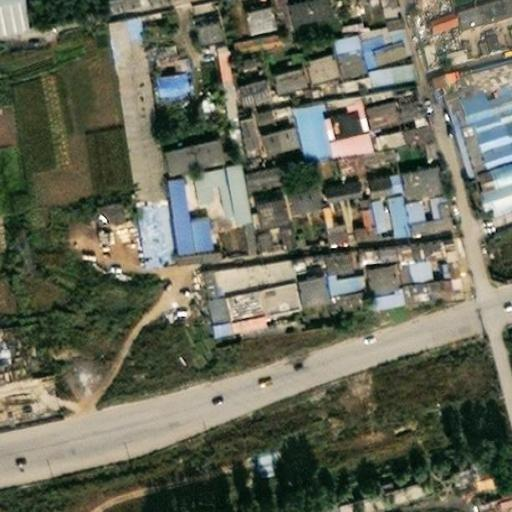building: (94, 1, 158, 188), (155, 162, 205, 240), (196, 244, 290, 279), (125, 187, 170, 254), (316, 86, 361, 143), (283, 85, 323, 143), (180, 149, 225, 199), (351, 9, 399, 54), (157, 121, 216, 155), (207, 29, 233, 105), (320, 8, 358, 59), (217, 267, 258, 314), (460, 78, 512, 115), (462, 53, 512, 89), (470, 161, 512, 201), (216, 146, 243, 208), (467, 102, 512, 138), (391, 149, 436, 181), (358, 46, 406, 76), (253, 262, 294, 297), (456, 0, 512, 25), (226, 99, 256, 145), (384, 475, 425, 506), (251, 110, 291, 141), (246, 178, 283, 210), (472, 142, 512, 171), (389, 225, 437, 248), (198, 277, 223, 320), (144, 53, 181, 82), (295, 34, 329, 65), (473, 126, 512, 152), (377, 178, 400, 222), (264, 48, 300, 76), (359, 85, 394, 113), (227, 60, 263, 87), (290, 258, 322, 288), (313, 166, 354, 189), (478, 23, 510, 52), (359, 243, 394, 269), (393, 103, 423, 133), (343, 187, 366, 226), (224, 17, 271, 36), (251, 444, 278, 477), (312, 193, 337, 228), (326, 58, 362, 82), (278, 172, 315, 195), (169, 232, 215, 250), (360, 180, 382, 217), (426, 6, 460, 29), (316, 235, 350, 258), (319, 257, 358, 277), (366, 266, 396, 292), (391, 244, 425, 266), (475, 492, 512, 512), (184, 0, 213, 24), (0, 101, 15, 146), (85, 188, 115, 210), (473, 463, 499, 488), (353, 230, 391, 247), (367, 116, 396, 138), (191, 90, 214, 117), (231, 205, 248, 239), (416, 36, 435, 66), (389, 81, 410, 108), (394, 263, 423, 282), (328, 273, 356, 292), (246, 90, 271, 110), (395, 184, 415, 208), (398, 204, 427, 220), (432, 64, 456, 83), (359, 161, 383, 180), (230, 44, 250, 64), (433, 241, 450, 260), (334, 498, 357, 512), (248, 216, 264, 235), (380, 159, 394, 177), (272, 214, 284, 232), (241, 193, 250, 211), (264, 0, 282, 9)
